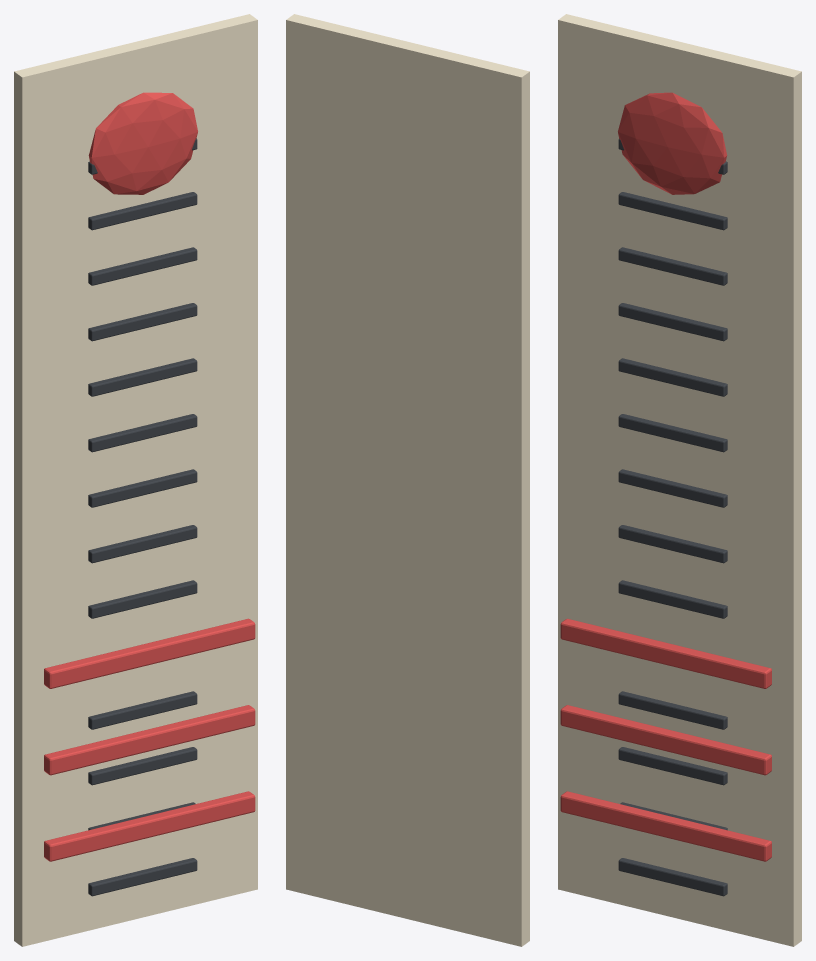
Rendered from ritual_omikuji.glb.
3 views of the same model, side by side, from view 1: azimuth 30°, elevation 25°; view 2: azimuth 150°, elevation 25°; view 3: azimuth 330°, elevation 25° (orthographic).
Visible parts, largest first — view 1: Long omikuji folded fortune, Red seal, Accordion folded corner, Accordion folded corner.001, Accordion folded corner.002, Calligraphic fortune line.003, Calligraphic fortune line.005, Calligraphic fortune line.007, Calligraphic fortune line.009, Calligraphic fortune line.011, Calligraphic fortune line.006, Calligraphic fortune line.008 (+4 smaller); view 2: Long omikuji folded fortune; view 3: Long omikuji folded fortune, Red seal, Accordion folded corner, Accordion folded corner.001, Accordion folded corner.002, Calligraphic fortune line.003, Calligraphic fortune line.005, Calligraphic fortune line.007, Calligraphic fortune line.009, Calligraphic fortune line.011, Calligraphic fortune line.006, Calligraphic fortune line.008 (+4 smaller).
Part boxes in pixels (x1,y1,x2,y2): Long omikuji folded fortune: [14, 14, 257, 946]; Red seal: [88, 92, 197, 194]; Accordion folded corner: [44, 791, 255, 861]; Accordion folded corner.001: [44, 705, 255, 775]; Accordion folded corner.002: [44, 618, 255, 688]; Calligraphic fortune line.003: [88, 691, 197, 729]; Calligraphic fortune line.005: [88, 580, 197, 618]; Calligraphic fortune line.007: [88, 469, 197, 507]; Calligraphic fortune line.009: [88, 358, 197, 396]; Calligraphic fortune line.011: [88, 247, 197, 285]; Calligraphic fortune line.006: [88, 525, 197, 563]; Calligraphic fortune line.008: [88, 414, 197, 452]; Long omikuji folded fortune: [286, 14, 529, 946]; Long omikuji folded fortune: [558, 14, 801, 946]; Red seal: [618, 92, 727, 194]; Accordion folded corner: [560, 791, 771, 861]; Accordion folded corner.001: [560, 705, 771, 775]; Accordion folded corner.002: [560, 618, 771, 688]; Calligraphic fortune line.003: [618, 691, 727, 729]; Calligraphic fortune line.005: [618, 580, 727, 618]; Calligraphic fortune line.007: [618, 469, 727, 507]; Calligraphic fortune line.009: [618, 358, 727, 396]; Calligraphic fortune line.011: [618, 247, 727, 285]; Calligraphic fortune line.006: [618, 525, 727, 563]; Calligraphic fortune line.008: [618, 414, 727, 452].
Size of the model in its own units: 0.5532 by 1.95 by 0.0857.
